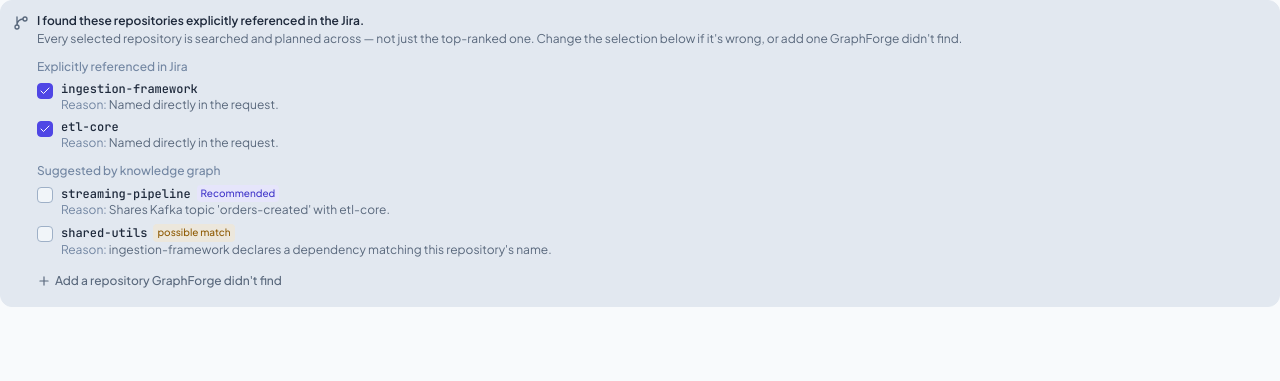
it: RepositorySelector › explains what unchecking a previously-selected repository means
This screenshot has width=1280, height=381.
Click the 1st checkbox.
click(45, 91)  # box x1=37 y1=83 x2=53 y2=99
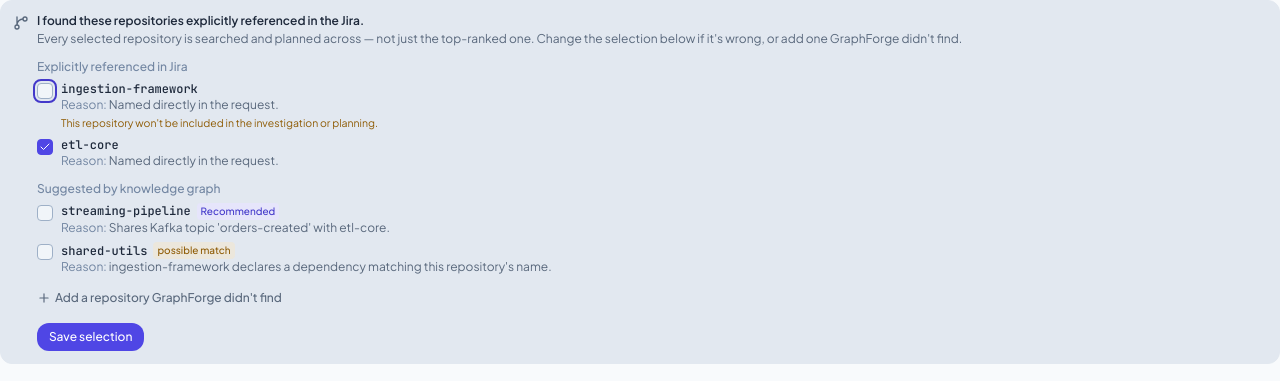
Check: the text "This repository won't be included in the investigation or planning." is shown, box x1=61 y1=116 x2=378 y2=129
